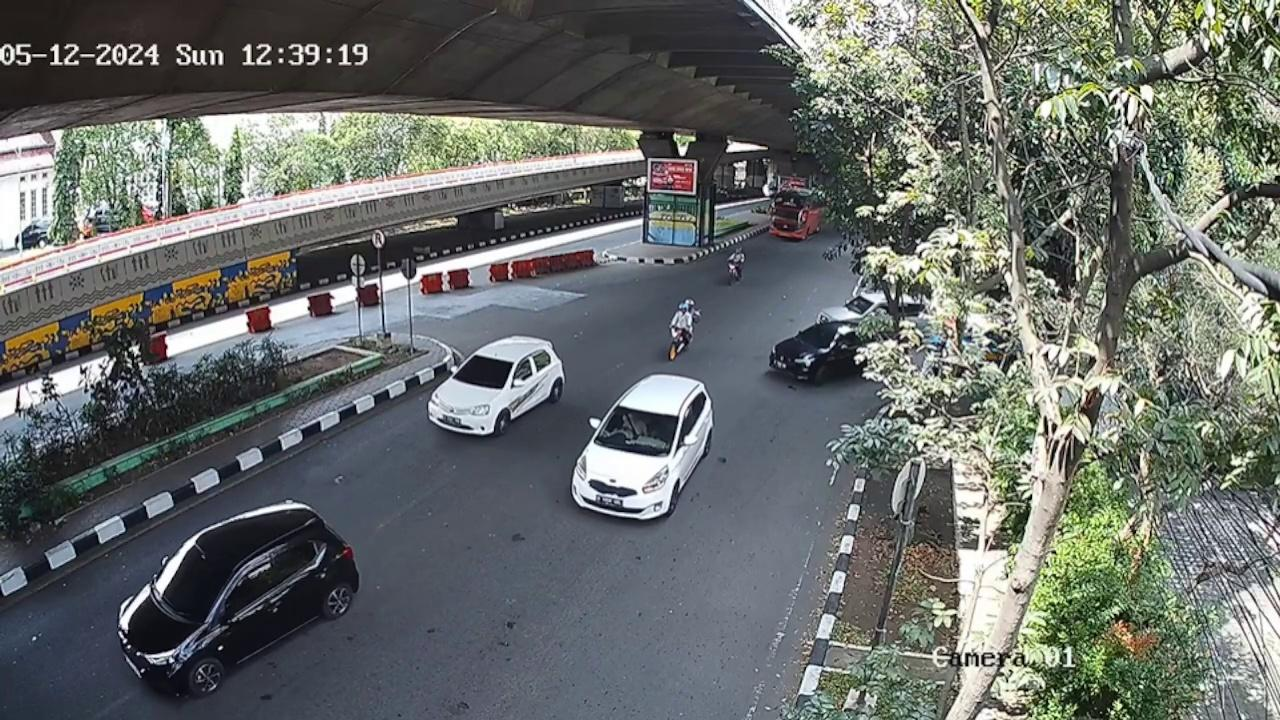pakai: (618, 413, 648, 439)
windshield: (593, 405, 679, 449), (449, 352, 517, 389)
